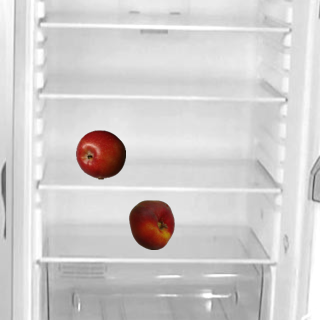Apple Braeburn: (75, 129, 125, 179)
Nectarine Flat: (126, 199, 176, 249)
